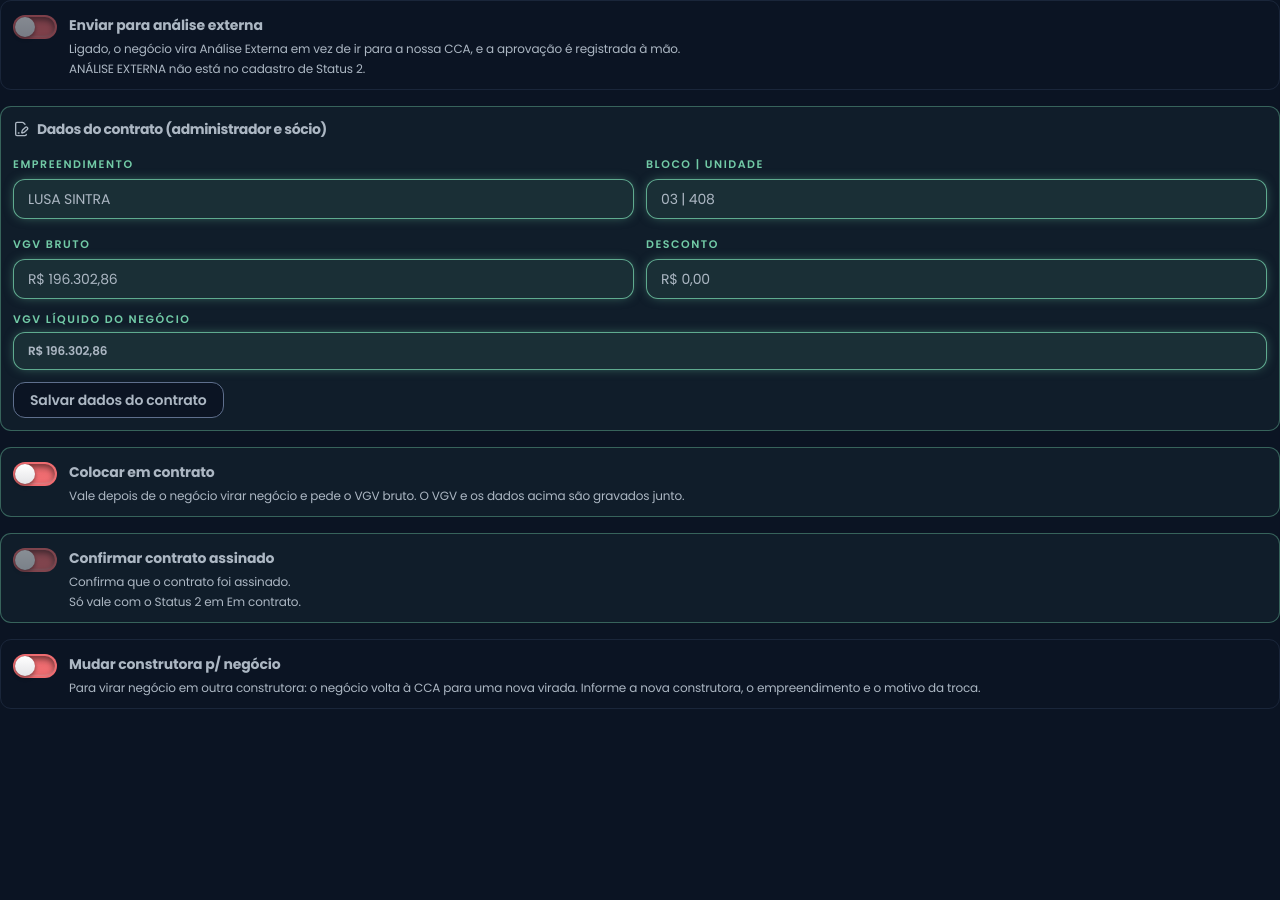
Scenario: MovimentoDoNegocio — um molde para toda ação › as opções só abrem com o toggle ligado
The image size is (1280, 900).
Click the switch next to "Colocar em contrato" at {"x": 35, "y": 474}, box [13,462,57,486]
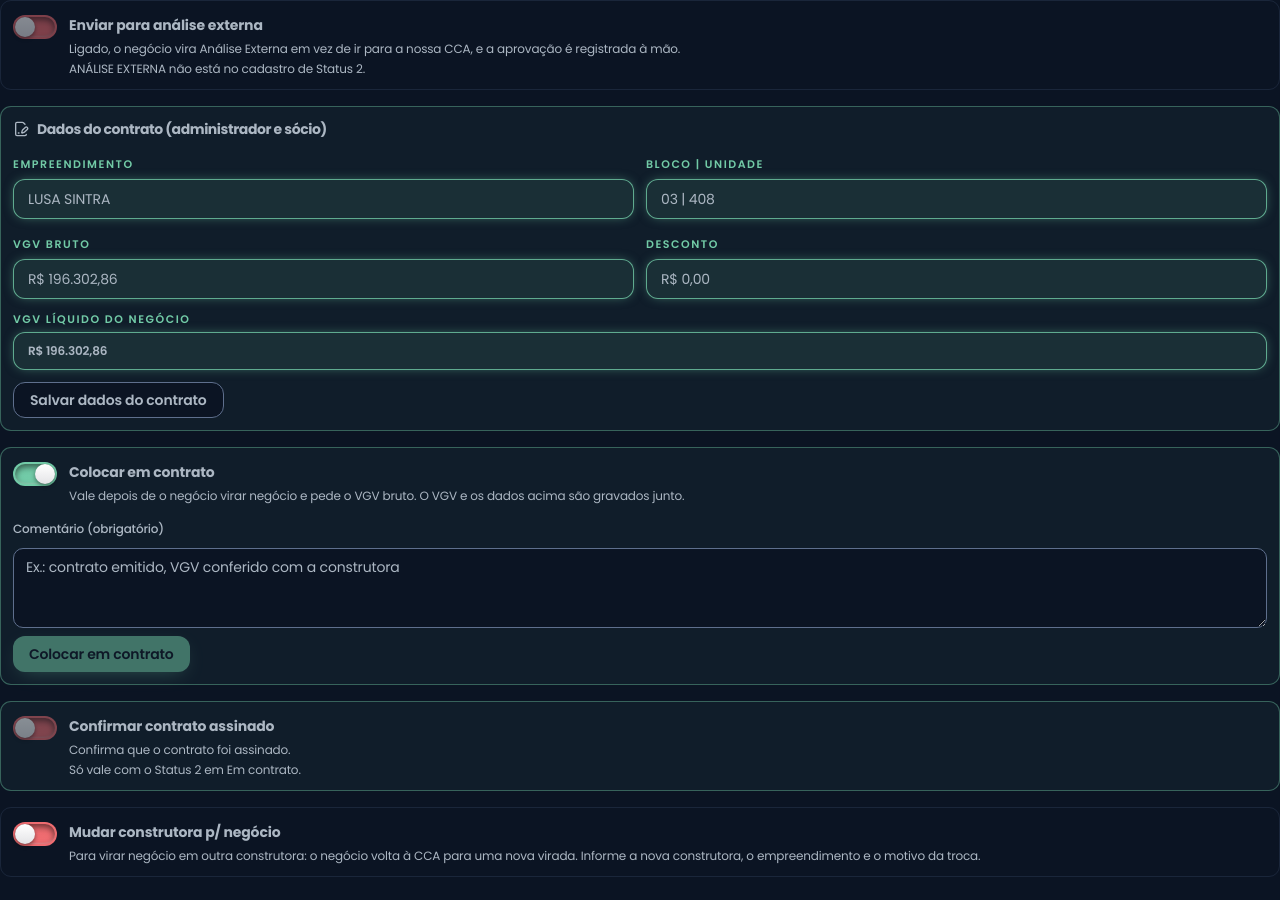
Check: the text box labelled "Comentário (obrigatório)" is shown, box [13,548,1267,628]
